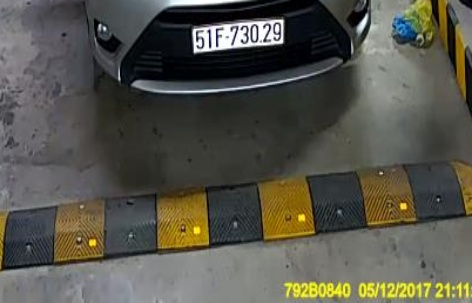plate: (190, 18, 291, 54)
